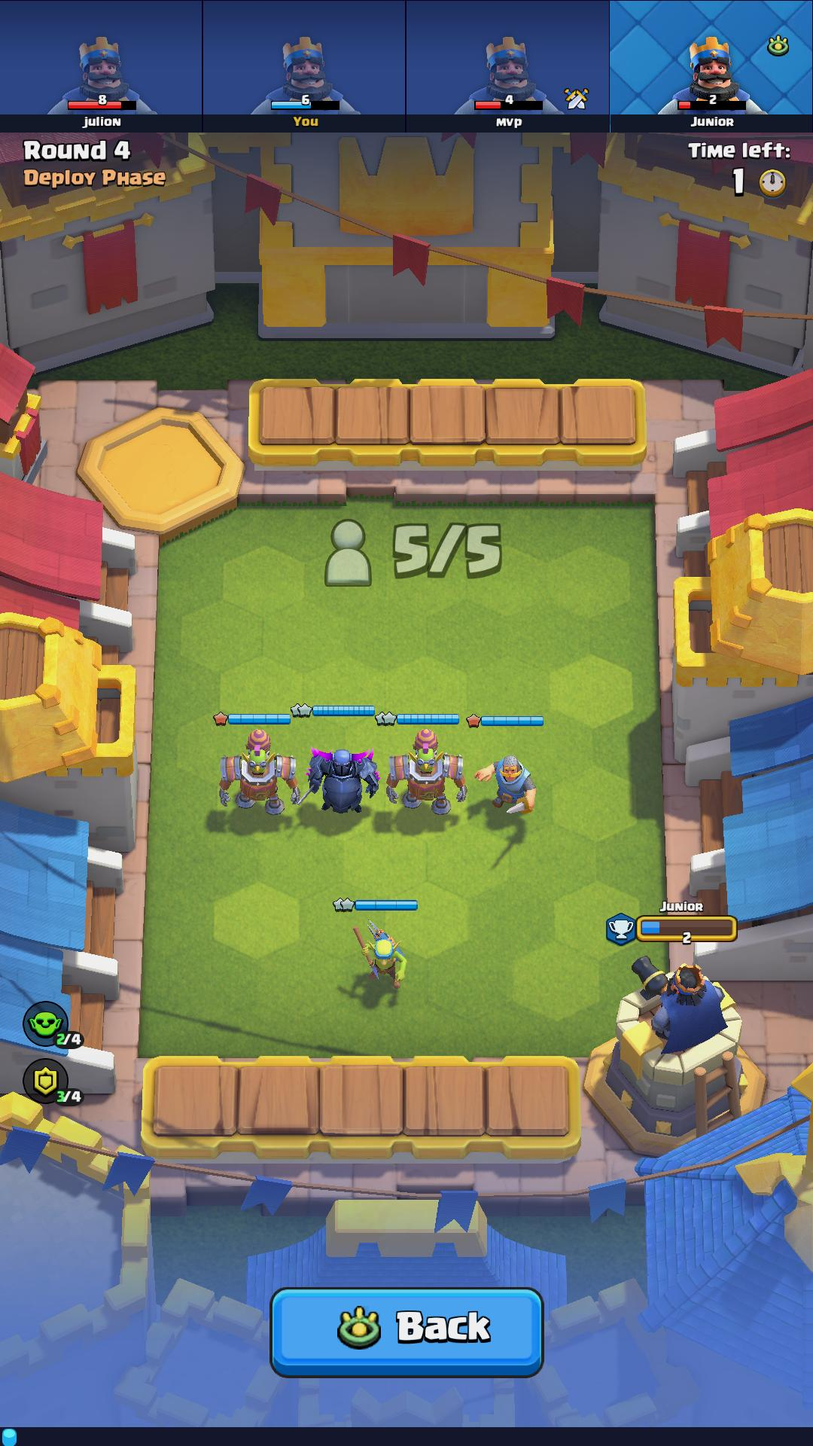knight: (466, 748, 545, 819)
machine: (216, 725, 305, 819), (385, 724, 471, 816)
pekka: (303, 731, 384, 822)
spear: (347, 918, 411, 988)
